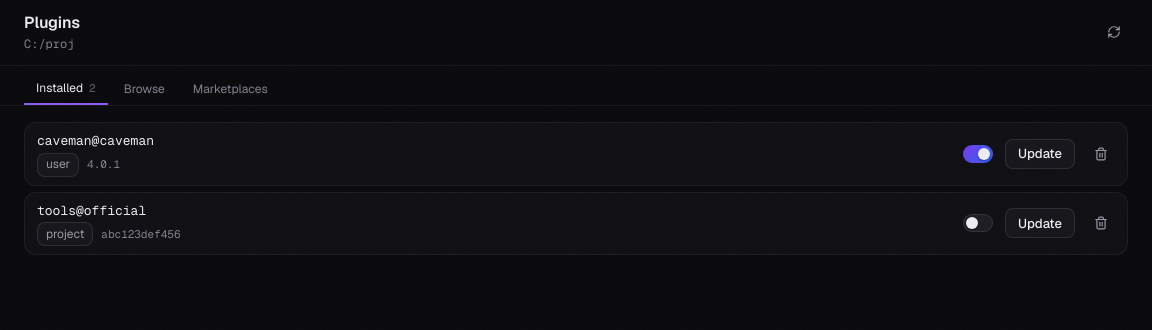
Test: PluginsPage browse tab › shows the catalog with counts and marks installed ones
This screenshot has width=1152, height=330.
What coordinates should you click on to do the following:
click the tab "Browse"
I would click on:
 (144, 90)
Its box is [112,74,177,105].
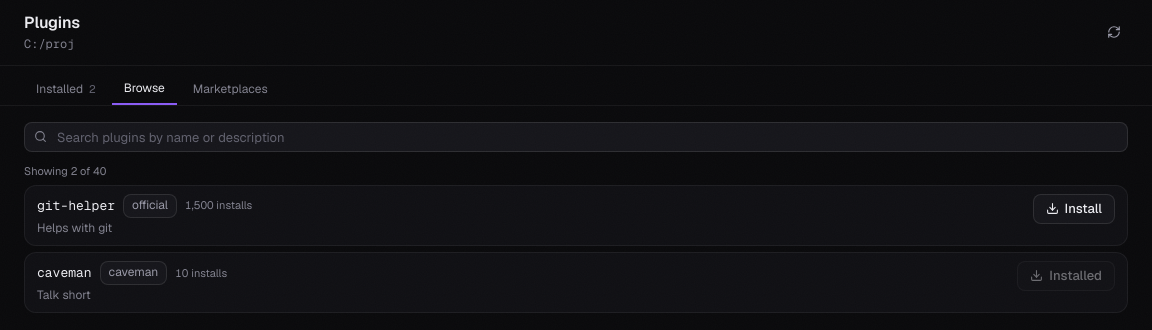
Expected: the text with test id "browse-count" reads "Showing 2 of 40", [24,164,106,178]
Expected: the button "Install" is enabled, [1032,194,1115,224]
Expected: the button "Installed" is disabled, [1017,261,1115,291]
